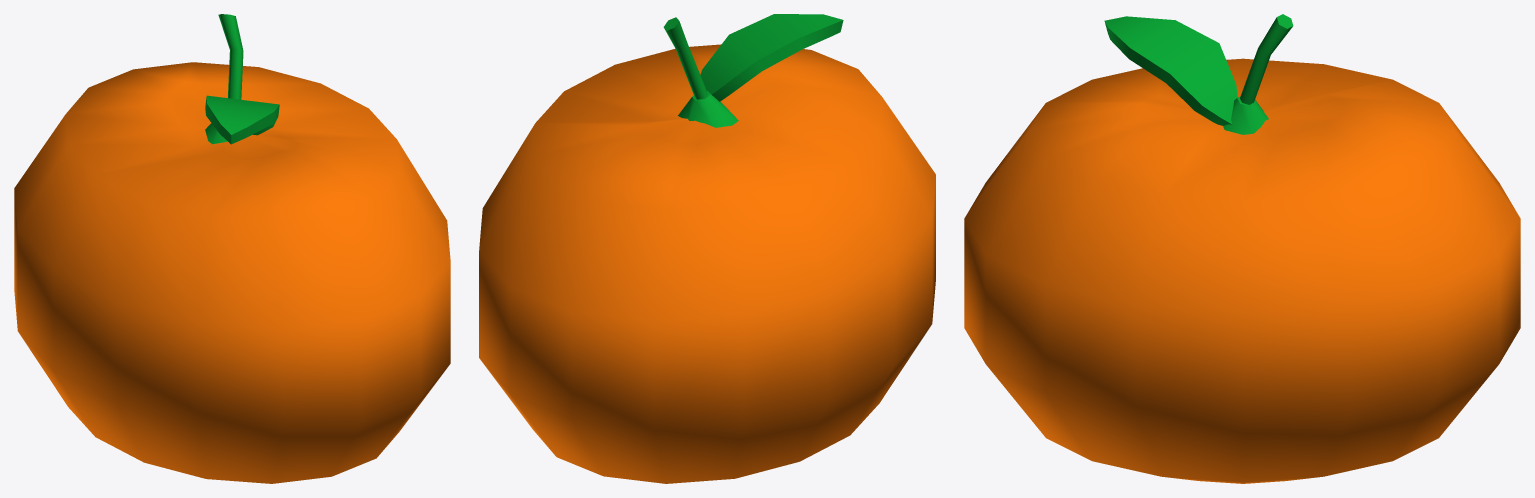
The model's file is mdl_orange.fbx.
3 renders of one model, left to right at view 1: azimuth 30°, elevation 25°; view 2: azimuth 150°, elevation 25°; view 3: azimuth 270°, elevation 25°, orthographic. The views are drawn at different scales.
Parts seen in each view (by area): view 1: Sphere2911; view 2: Sphere2911; view 3: Sphere2911.
Part boxes in pixels (bbox=[...]): Sphere2911: bbox=[14, 14, 450, 483]; Sphere2911: bbox=[479, 14, 935, 483]; Sphere2911: bbox=[964, 14, 1520, 483].
Size of the model in its own units: 16.67 by 18.55 by 20.98.
